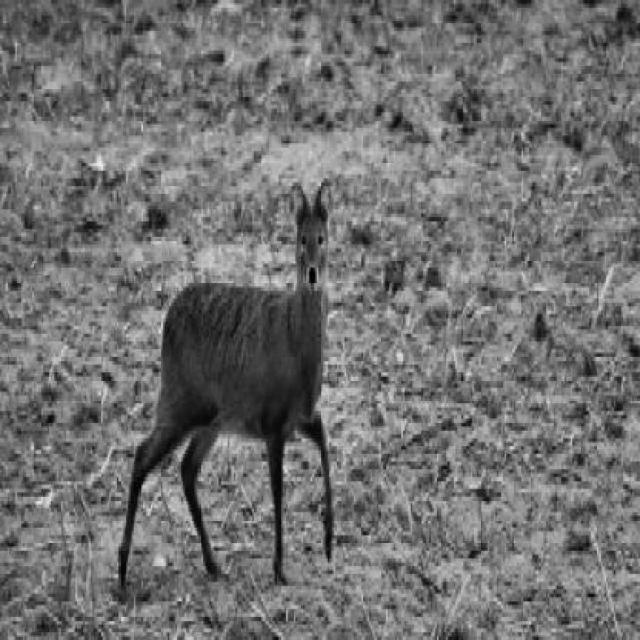Deer: (112, 175, 338, 592)
